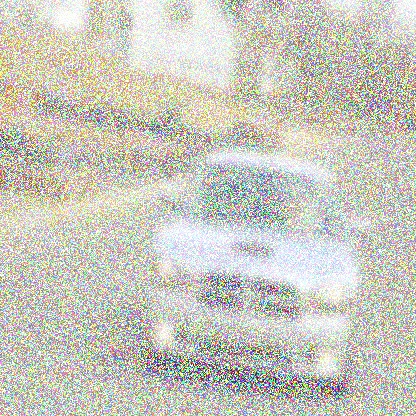Vehicle: (142, 151, 375, 397)
